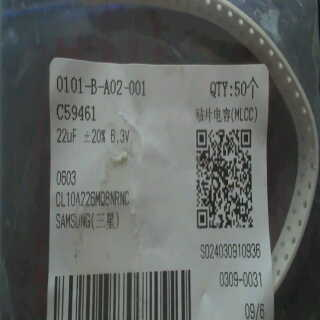22uF: (53, 127, 81, 145)
